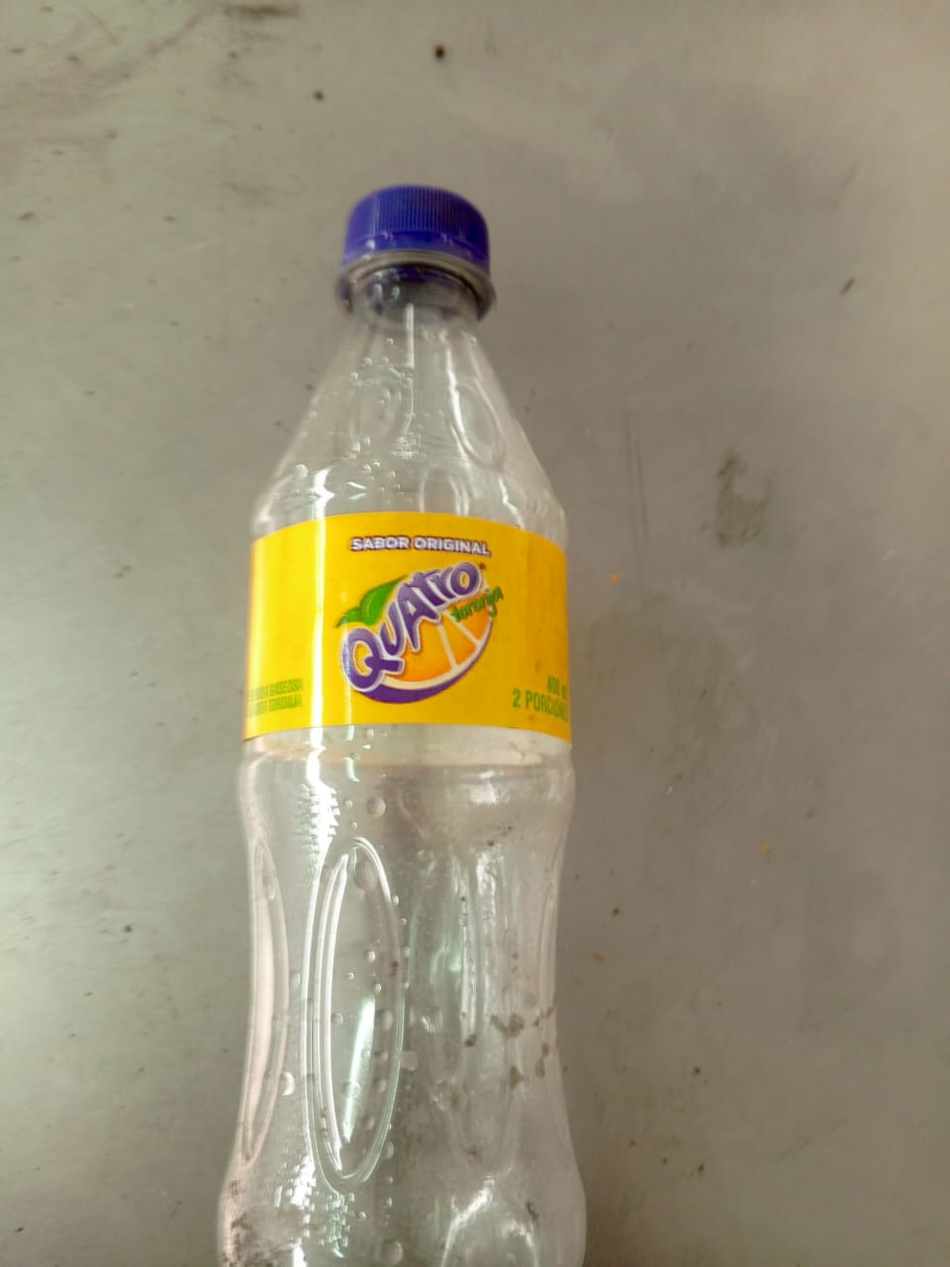Plastico: (217, 182, 587, 1267)
